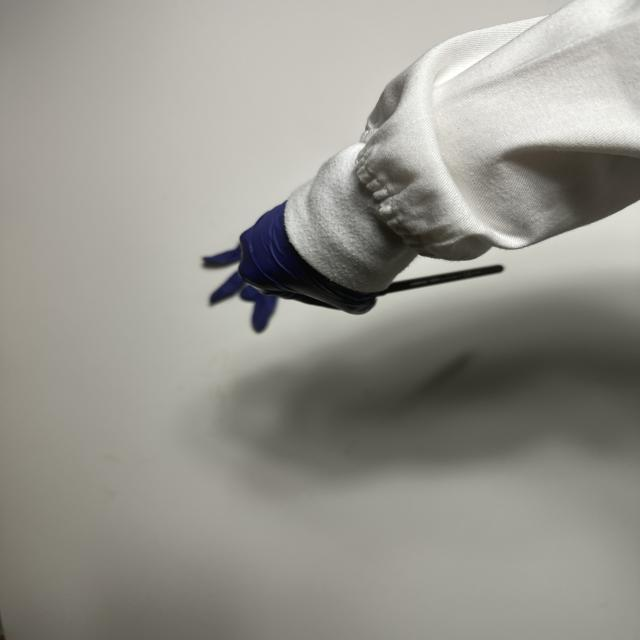gloves_contaminated: (239, 203, 378, 314)
